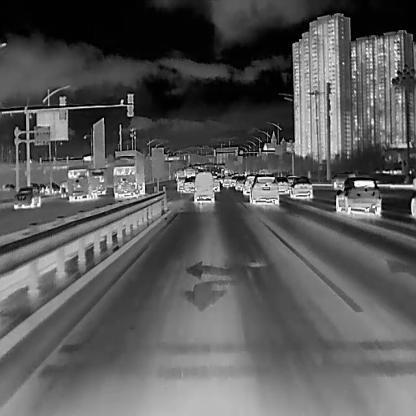car: (335, 176, 380, 214), (111, 150, 146, 198), (65, 166, 98, 200), (249, 174, 278, 203), (192, 168, 213, 205), (12, 186, 39, 208), (290, 177, 312, 198), (91, 169, 107, 194), (275, 176, 290, 194), (244, 175, 255, 196), (183, 176, 194, 192), (235, 175, 245, 190), (176, 176, 184, 192), (222, 175, 230, 187), (213, 177, 219, 192)
